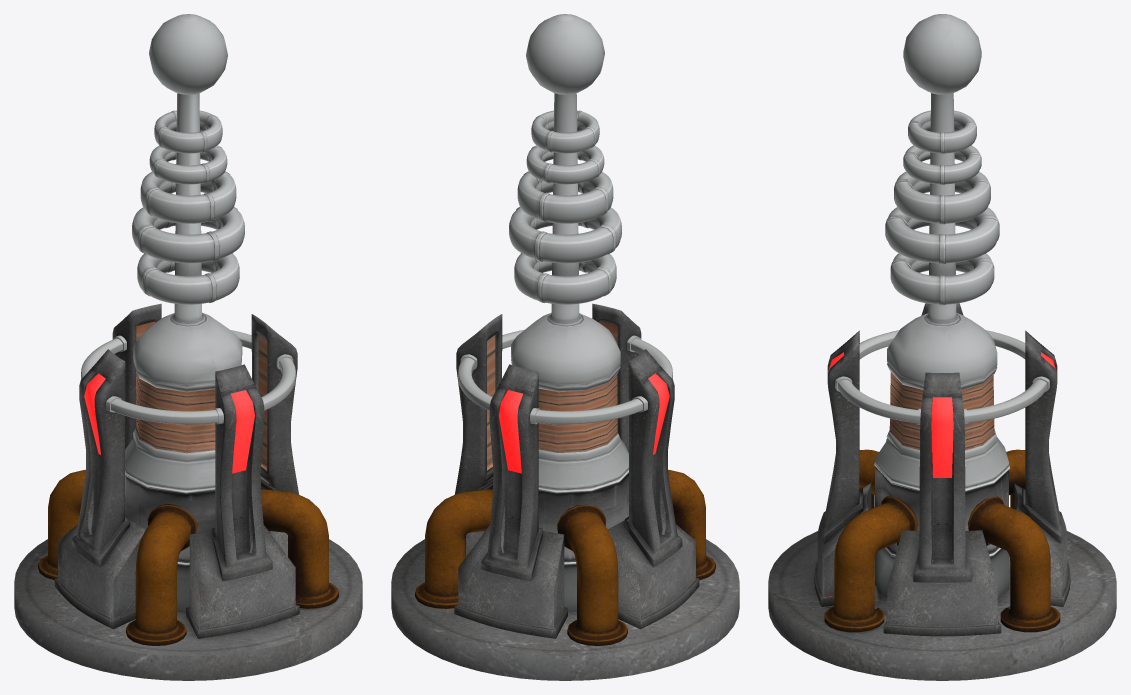
Rendered from TeslaColi.fbx.
3 renders of one model, left to right at view 1: azimuth 30°, elevation 25°; view 2: azimuth 150°, elevation 25°; view 3: azimuth 270°, elevation 25°, orthographic.
Parts seen in each view (by area): view 1: TeslaColi; view 2: TeslaColi; view 3: TeslaColi.
Boxes of the visible parts, x1,y1,x2,y2 form: TeslaColi: [14, 14, 362, 680]; TeslaColi: [391, 14, 739, 680]; TeslaColi: [768, 14, 1116, 680].
Size of the model in its own units: 509 by 951 by 509.
